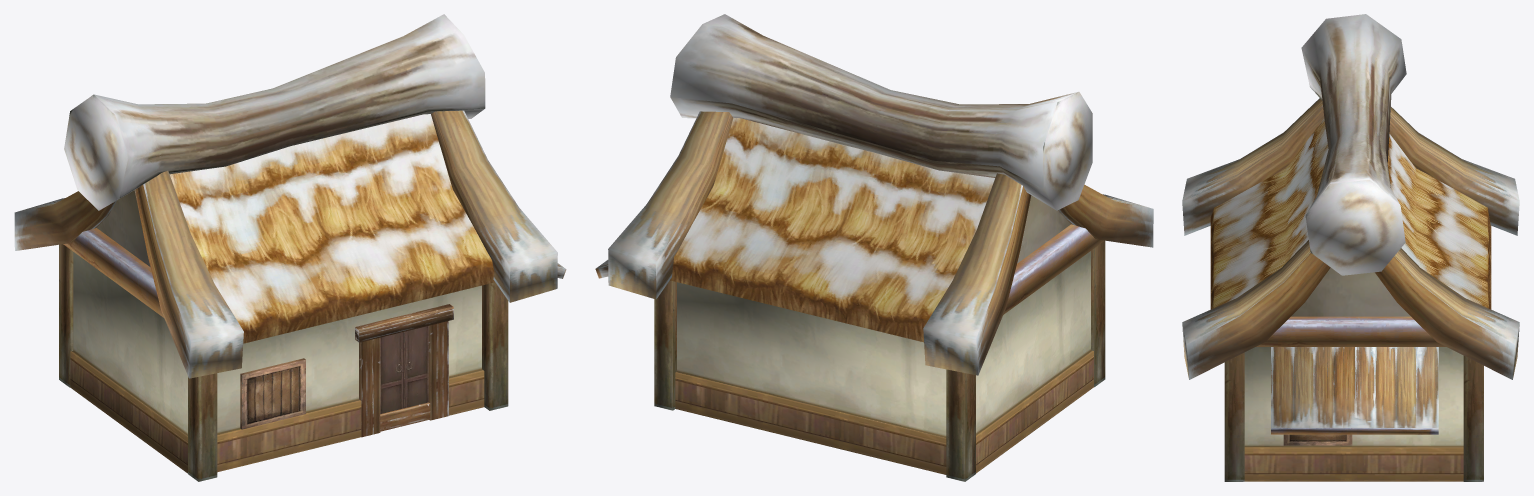
The model's file is SM_House_04.fbx.
The picture shows the model from 3 angles, left to right: view 1: azimuth 30°, elevation 25°; view 2: azimuth 150°, elevation 25°; view 3: azimuth 270°, elevation 25°; orthographic projection. The views are drawn at different scales.
Parts seen in each view (by area): view 1: SM_House_04; view 2: SM_House_04; view 3: SM_House_04.
Part boxes in pixels (box(x1,y1,x2,y2)): SM_House_04: box(14, 14, 566, 481); SM_House_04: box(595, 14, 1153, 481); SM_House_04: box(1182, 14, 1519, 481).
Size of the model in its own units: 6.47 by 4.88 by 4.74.
